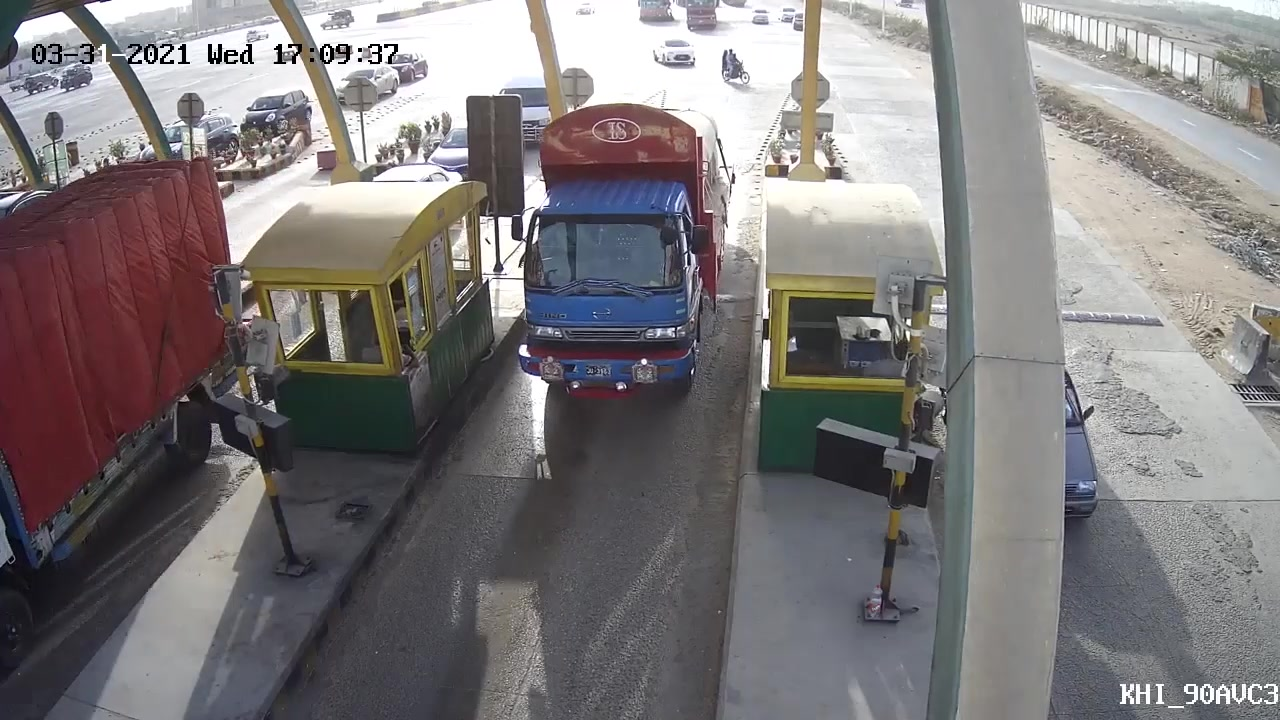F5: (504, 107, 739, 421)
